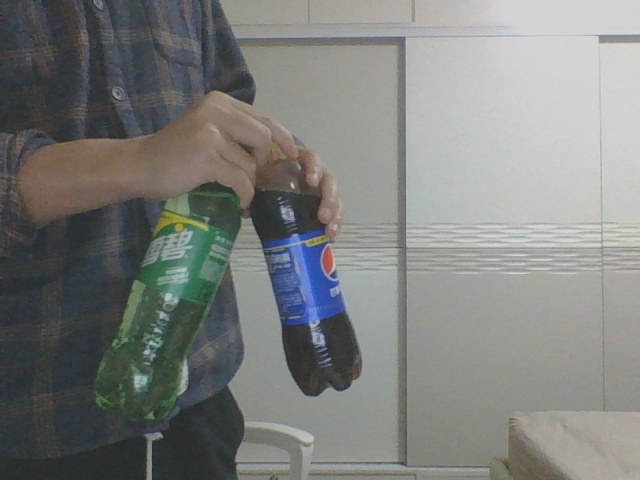Cola: (249, 145, 364, 397)
Sprite: (91, 179, 241, 423)
